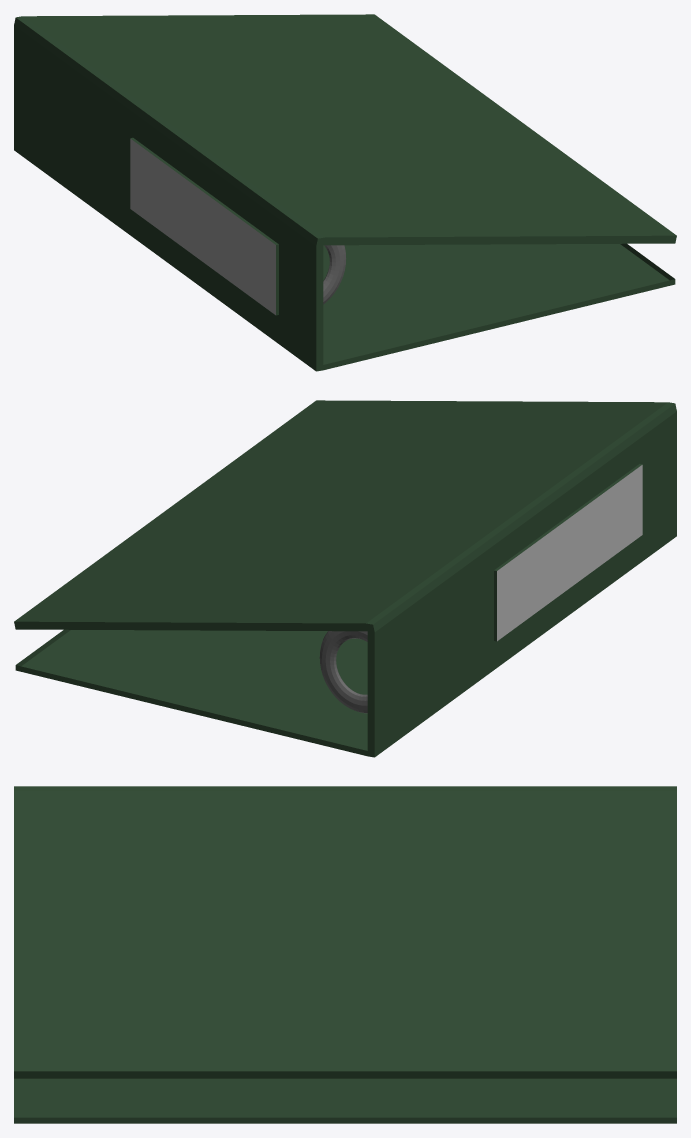
The model's file is green file 1 no paper.fbx.
3 views of the same model, one above another, from view 1: azimuth 30°, elevation 25°; view 2: azimuth 150°, elevation 25°; view 3: azimuth 270°, elevation 25° (orthographic). The views are drawn at different scales.
Parts seen in each view (by area): view 1: Cube; view 2: Cube; view 3: Cube.
Boxes of the visible parts, x1,y1,x2,y2 form: Cube: (14, 14, 676, 371); Cube: (14, 400, 676, 757); Cube: (14, 786, 676, 1123).
Bounding box in the file's own units: 257 × 89.7 × 369.
